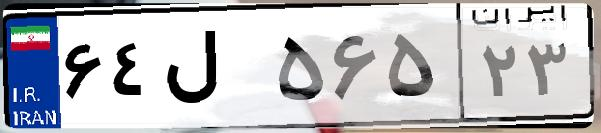2: (475, 38, 525, 113)
3: (525, 38, 570, 115)
4: (110, 28, 158, 98)
5: (270, 28, 330, 110), (385, 28, 445, 110)
6: (330, 28, 385, 110), (57, 26, 110, 100)
ل: (158, 20, 270, 120)
